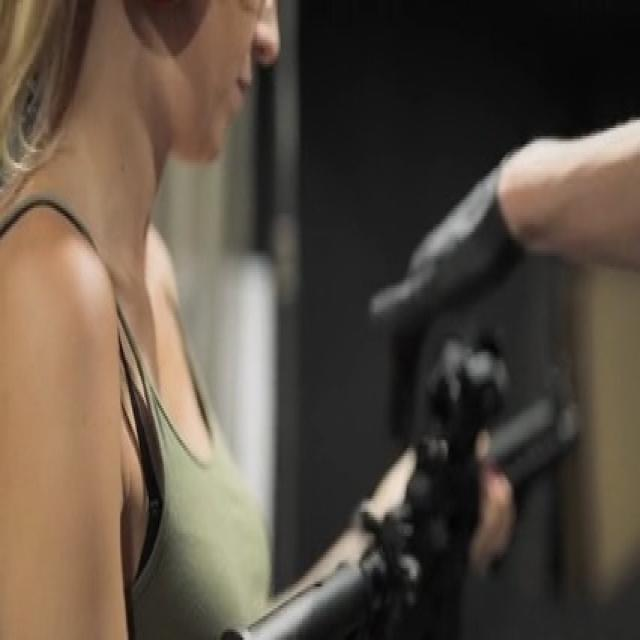Gun_Holder: (198, 322, 640, 640)
Person: (0, 0, 293, 635)
